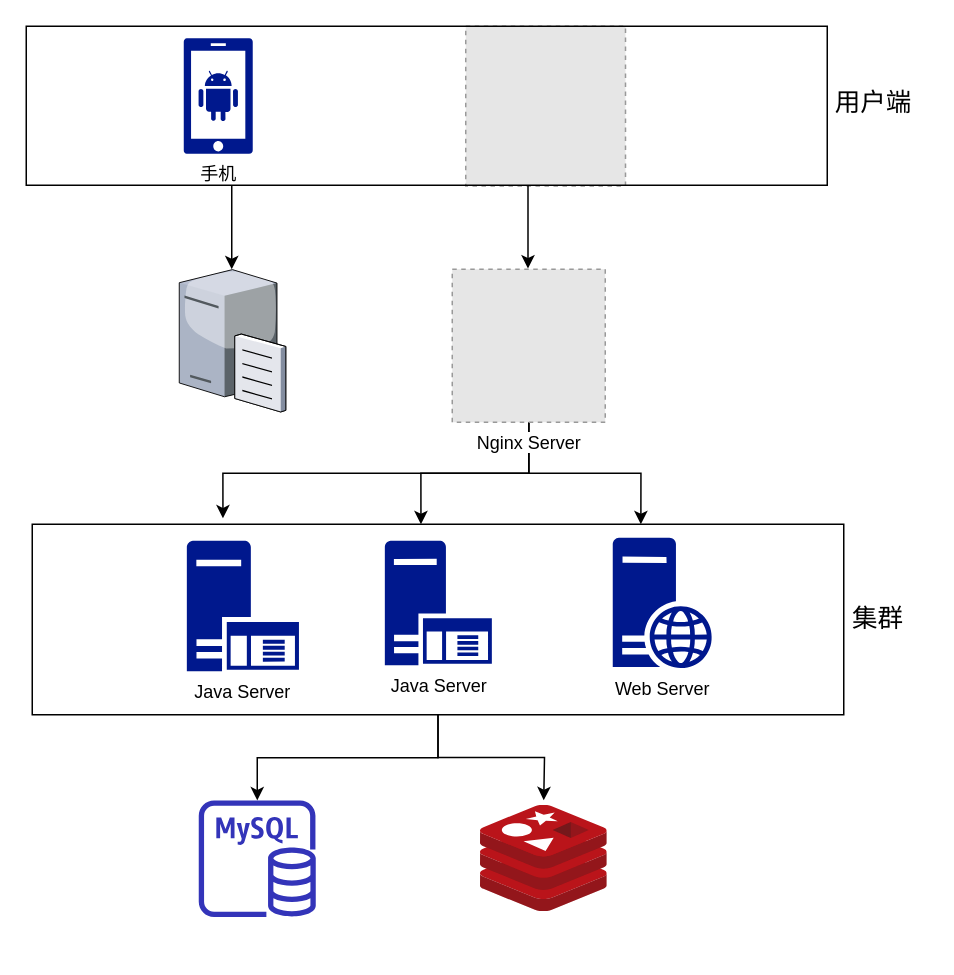
Some shapes in this 954 by 975 pixel diagram are drawn without their labels. Grey dashed boxes stand in for pictures. Each missing label, with the centre of its shape:
mysql: (x=256, y=858)
redis: (x=543, y=858)
文件服务器: (x=231, y=338)
